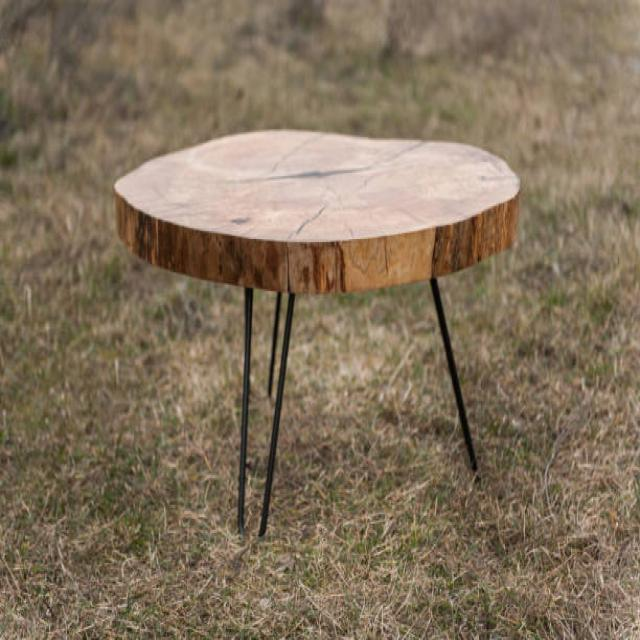table: (113, 126, 521, 536)
